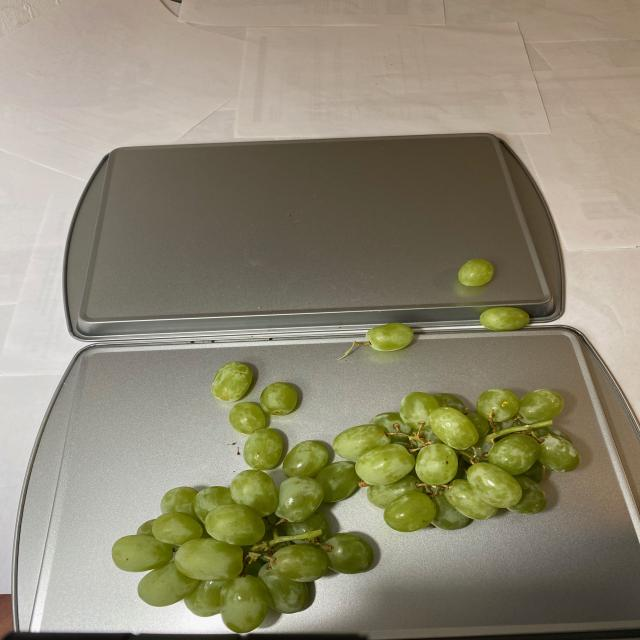grapes: (101, 362, 575, 632), (352, 257, 533, 366)
